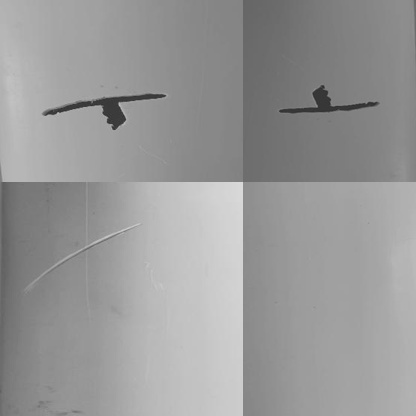fengxi: (38, 89, 175, 107), (274, 103, 385, 115)
kongdong: (97, 104, 127, 128), (307, 82, 334, 106)
sunshang: (27, 222, 146, 297)
